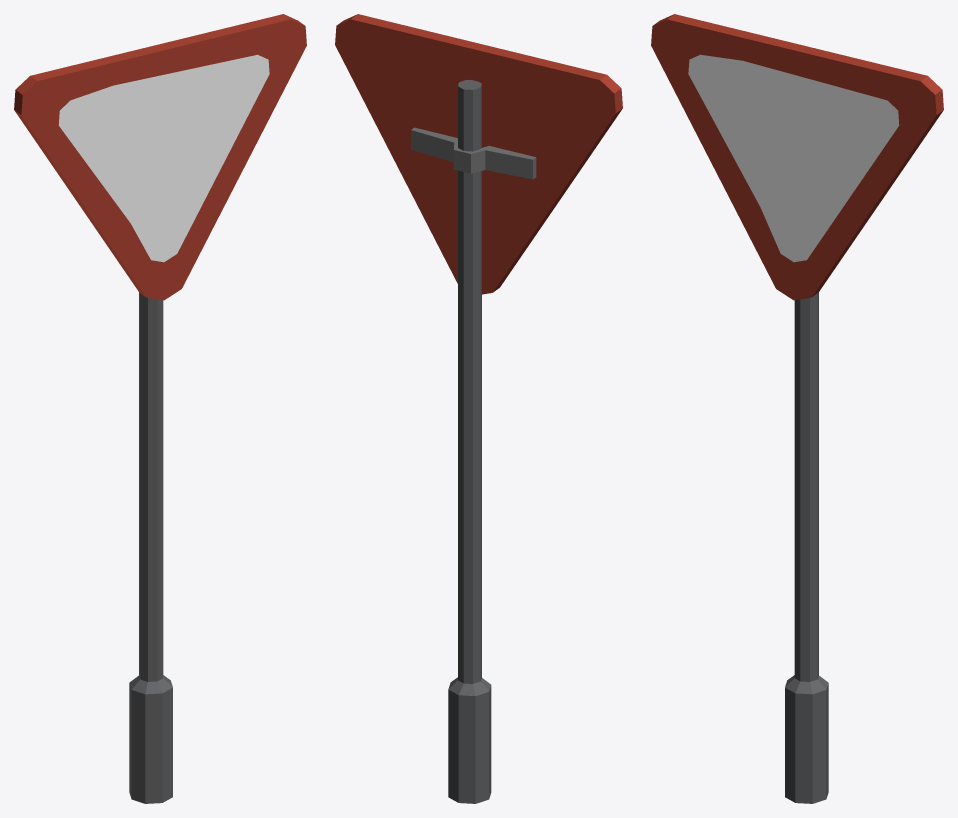
Rendered from SM_Prop_Sign_GiveWay_01.fbx.
The picture shows the model from 3 angles, left to right: view 1: azimuth 30°, elevation 25°; view 2: azimuth 150°, elevation 25°; view 3: azimuth 330°, elevation 25°; orthographic projection.
Parts seen in each view (by area): view 1: SM_Prop_Sign_GiveWay_01; view 2: SM_Prop_Sign_GiveWay_01; view 3: SM_Prop_Sign_GiveWay_01.
Part boxes in pixels (x1,y1,x2,y2): SM_Prop_Sign_GiveWay_01: (14,14,306,803); SM_Prop_Sign_GiveWay_01: (335,14,622,803); SM_Prop_Sign_GiveWay_01: (651,14,943,803).
Bounding box in the file's own units: 86.46 × 218 × 12.74.
